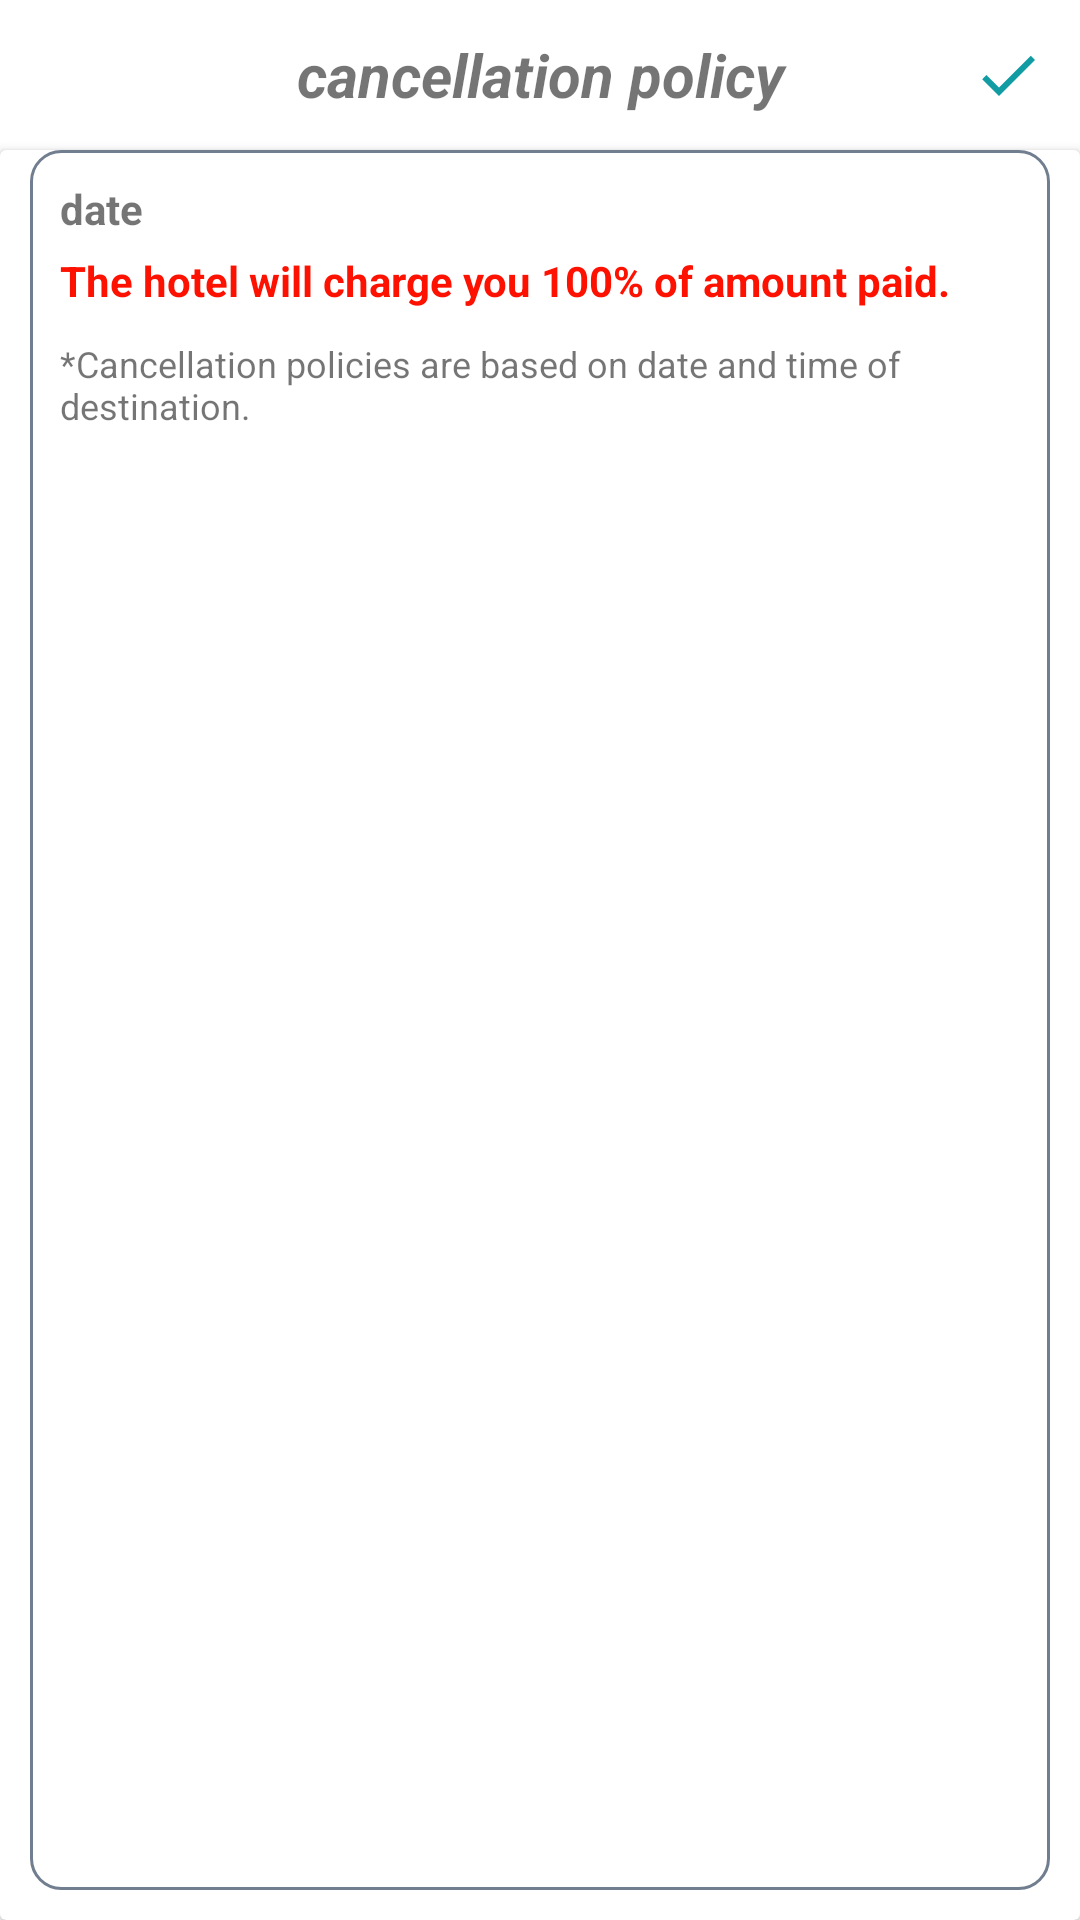

Named icons in this screenshot (1080 × 1920) and their centers, (x,y):
done: (1008,76)
